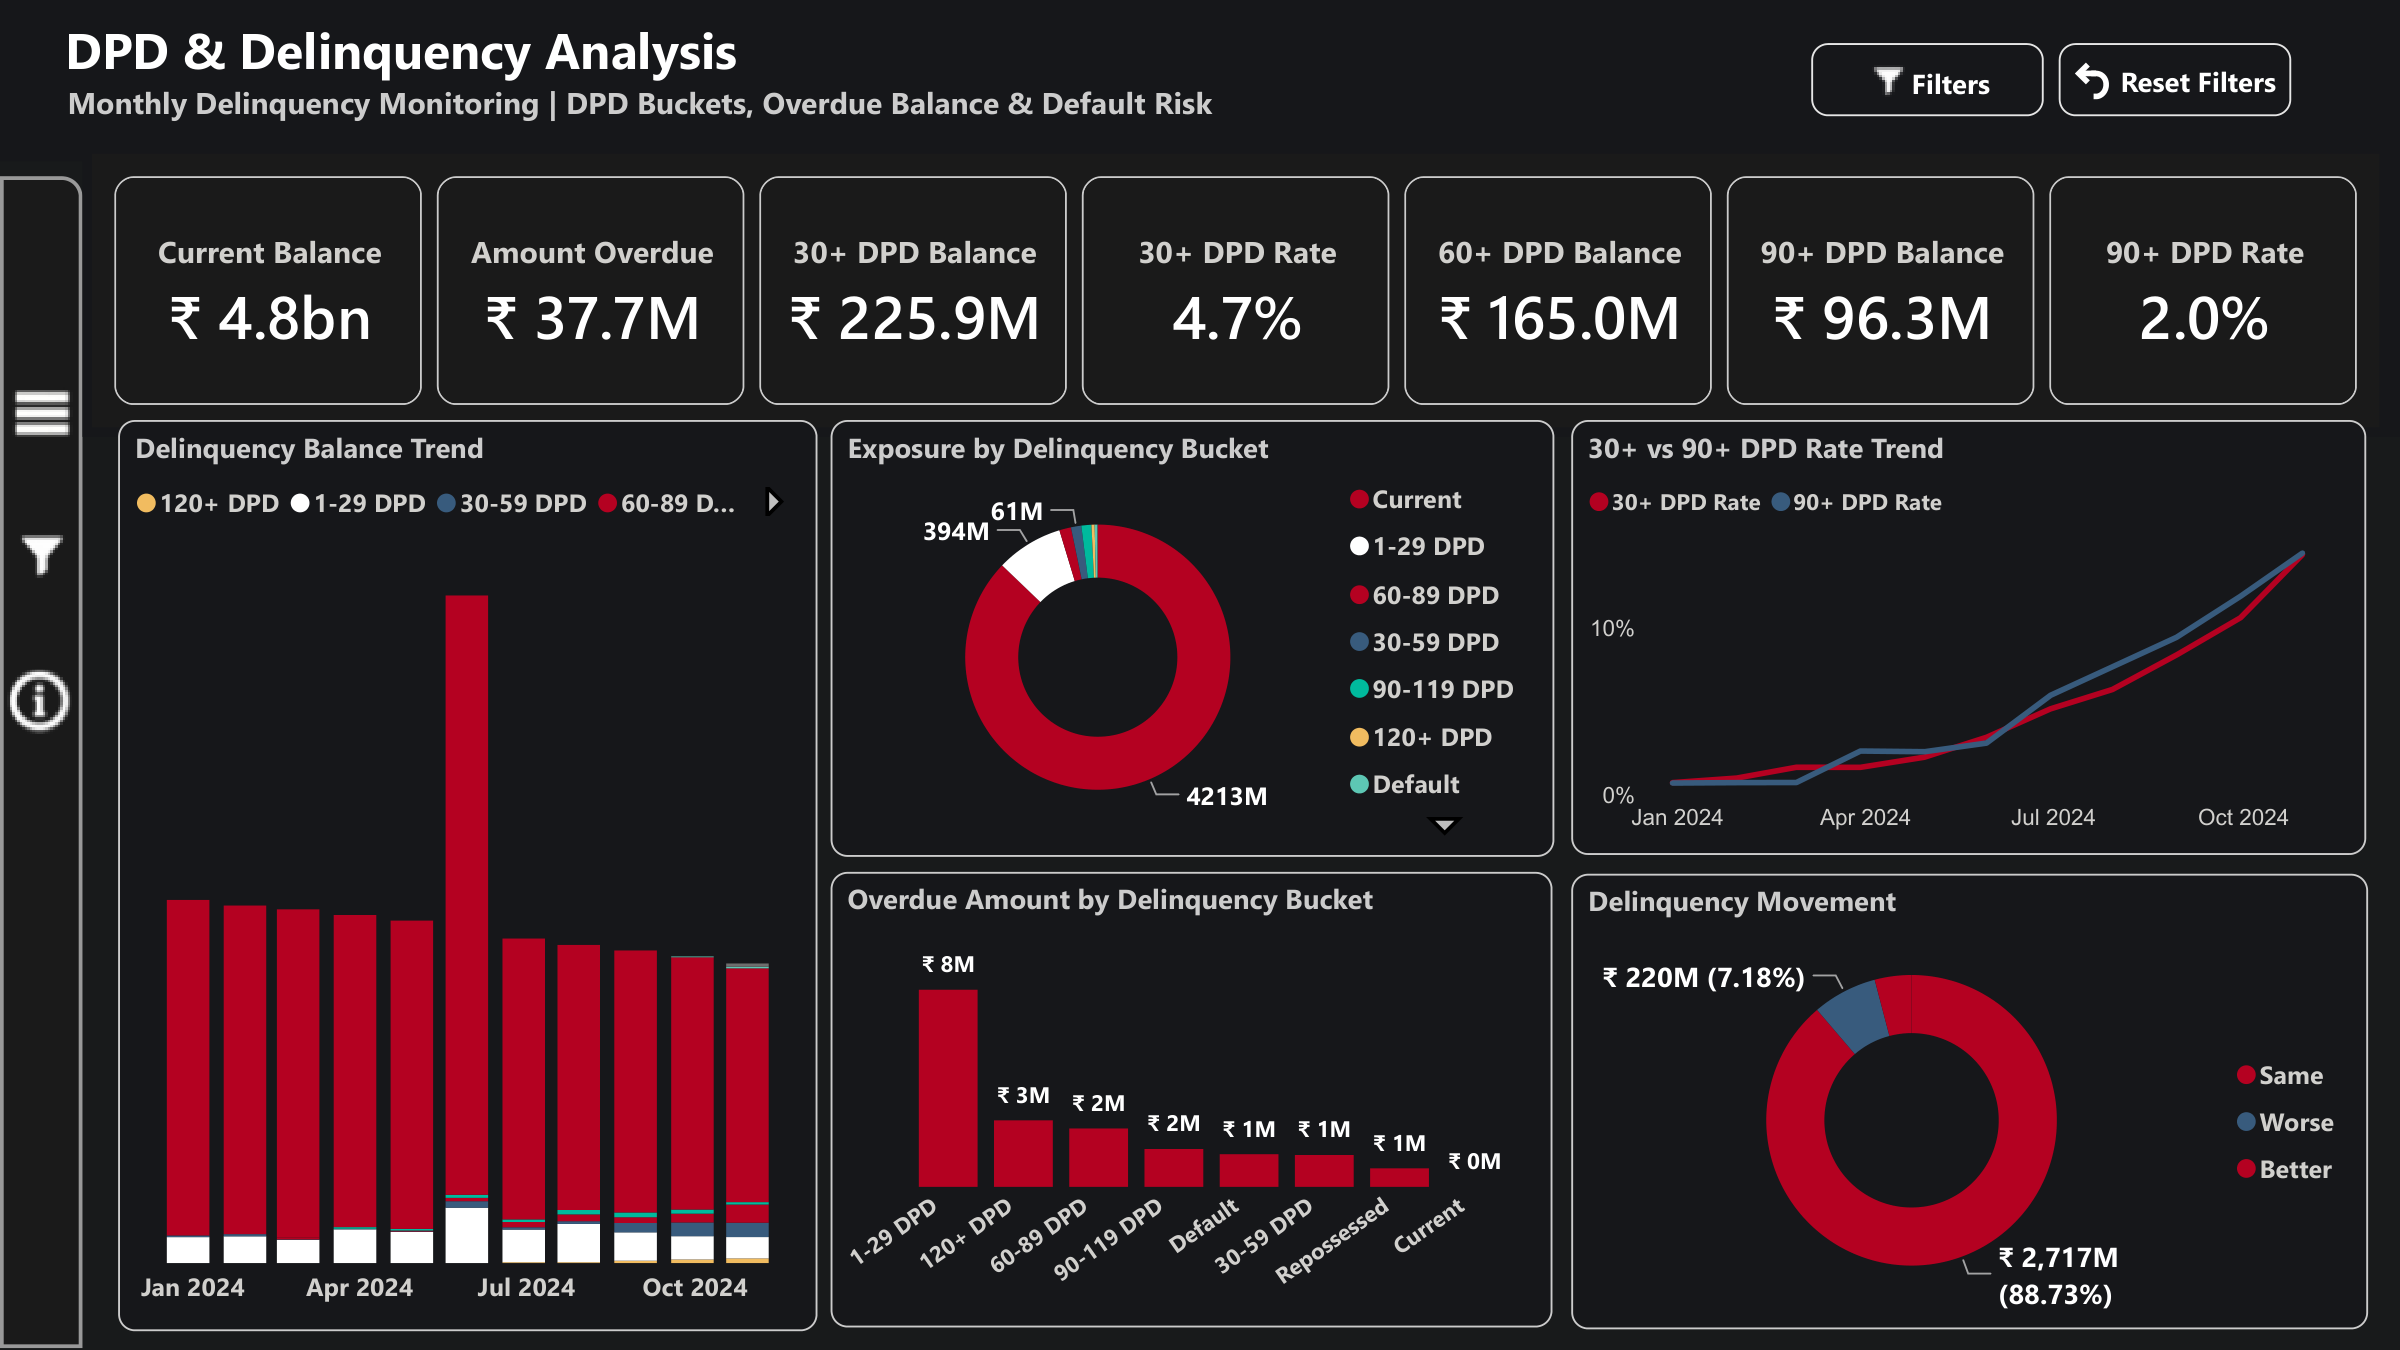

The dashboard page shown, as its layout file describes it:
{"tool":"powerbi","page":{"name":"DPD & Delinquency Analysis","canvas":[1280,720],"ordinal":2},"visuals":[{"type":"group","id":"g1","title":"default page ","box":[0,0,1280,86.5],"z":0},{"type":"textbox","title":"Executive Overview","box":[0,0,1280,86.5],"z":0,"group":"g1"},{"type":"cardVisual","fields":{"Data":["Sum(DPD_History.CurrentBalance)","Sum(DPD_History.AmountOverdue)","DPD_History.30+ DPD Balance","DPD_History.30+ DPD Rate","DPD_History.60+ DPD Balance","DPD_History.90+ DPD Balance","DPD_History.90+ DPD Rate"]},"box":[44.3,76.7,1235.7,155.7],"z":0,"group":"g3"},{"type":"shape","box":[0,94.1,44.3,625],"z":0,"group":"g2"},{"type":"shape","box":[350.8,142.2,576.7,429.8],"z":0,"group":"g4"},{"type":"actionButton","box":[1097.5,23.1,124.4,39],"z":1000,"group":"g1"},{"type":"textbox","box":[350,172.9,577.3,398.9],"z":1000,"group":"g4"},{"type":"actionButton","box":[0,181.3,44.5,77.6],"z":1000,"group":"g2"},{"type":"lineChart","title":"30+ vs 90+ DPD Rate Trend","fields":{"Category":["DPD_History.SnapshotDate"],"Y":["DPD_History.30+ DPD Rate"],"Y2":["DPD_History.90+ DPD Rate"]},"box":[838,223.9,424.4,231.4],"z":1000,"group":"g3"},{"type":"actionButton","box":[965.9,23.1,124.4,39],"z":2000,"group":"g1"},{"type":"shape","box":[350,120,579.1,52.1],"z":2000,"group":"g4"},{"type":"donutChart","title":"Exposure by Delinquency Bucket","fields":{"Y":["DPD_History.DPD Current Balance"],"Category":["DPD_History.DPD_Bucket"]},"box":[443.6,223.9,385.8,232.8],"z":2000,"group":"g3"},{"type":"actionButton","box":[0,257.9,44.8,76.9],"z":2000,"group":"g2"},{"type":"actionButton","box":[887.2,120,42.8,53.8],"z":3000,"group":"g4"},{"type":"columnChart","title":"Delinquency Balance Trend","fields":{"Category":["DPD_History.SnapshotDate"],"Series":["DPD_History.DPD_Bucket"],"Y":["DPD_History.DPD Current Balance"]},"box":[63.6,223.9,372.9,485.6],"z":3000,"group":"g3"},{"type":"actionButton","box":[0,334.9,44.8,78.3],"z":3000,"group":"g2"},{"type":"group","id":"g2","title":"navigation bar","box":[0,94.1,44.8,625],"z":4000},{"type":"textbox","box":[398.6,120,406.2,49.7],"z":4000,"group":"g4"},{"type":"clusteredColumnChart","title":"Overdue Amount by Delinquency Bucket","fields":{"Category":["DPD_History.DPD_Bucket"],"Y":["Sum(DPD_History.AmountOverdue)"]},"box":[442.9,465.2,385.8,242.8],"z":4000,"group":"g3"},{"type":"group","id":"g3","title":"charts unfolded 1","box":[44.3,76.7,1235.7,632.9],"z":5000},{"type":"actionButton","box":[377.2,125.9,27.2,32],"z":5000,"group":"g4"},{"type":"donutChart","title":"Delinquency Movement","fields":{"Category":["DPD_History.RollFlag"],"Y":["Sum(DPD_History.CurrentBalance)"]},"box":[838.5,465.9,424.4,242.8],"z":5000,"group":"g3"},{"type":"group","id":"g4","title":"info","box":[350,120,580,452],"z":7000}]}

Visuals, with their boxes on the page's 1280x720 design canvas (x1, y1, x2, y2). These are canvas units, not pixel positions in the 2400x1350 screenshot, which may show the page scaled, cropped or inside an application window:
"default page " group: 0 0 1280 86
"Executive Overview" textbox: 0 0 1280 86
cardVisual - Sum(DPD_History.CurrentBalance) x Sum(DPD_History.AmountOverdue): 44 77 1280 232
shape: 0 94 44 719
shape: 351 142 928 572
actionButton: 1098 23 1222 62
textbox: 350 173 927 572
actionButton: 0 181 44 259
"30+ vs 90+ DPD Rate Trend" lineChart: 838 224 1262 455
actionButton: 966 23 1090 62
shape: 350 120 929 172
"Exposure by Delinquency Bucket" donutChart: 444 224 829 457
actionButton: 0 258 45 335
actionButton: 887 120 930 174
"Delinquency Balance Trend" columnChart: 64 224 436 710
actionButton: 0 335 45 413
"navigation bar" group: 0 94 45 719
textbox: 399 120 805 170
"Overdue Amount by Delinquency Bucket" clusteredColumnChart: 443 465 829 708
"charts unfolded 1" group: 44 77 1280 710
actionButton: 377 126 404 158
"Delinquency Movement" donutChart: 838 466 1263 709
"info" group: 350 120 930 572
